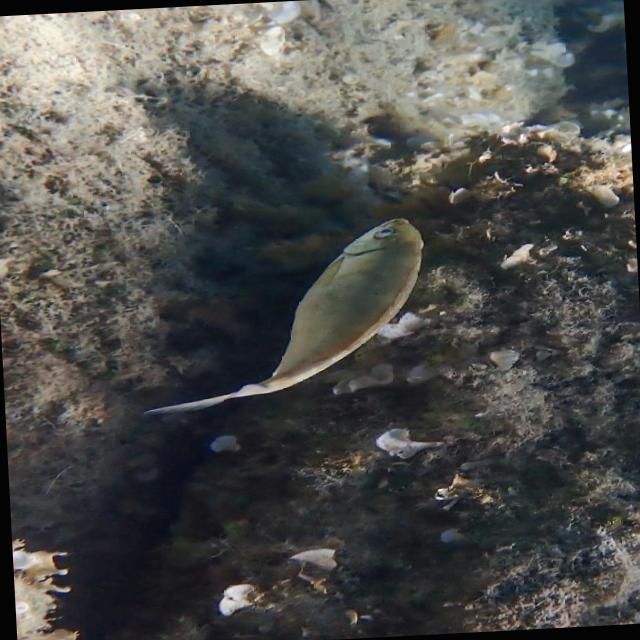Sokar Baligi: (127, 200, 460, 428)
